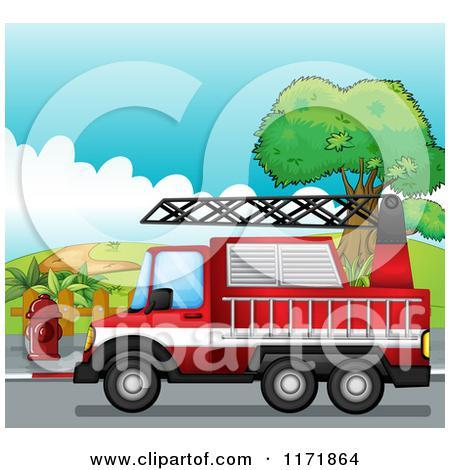car: (66, 229, 436, 422)
